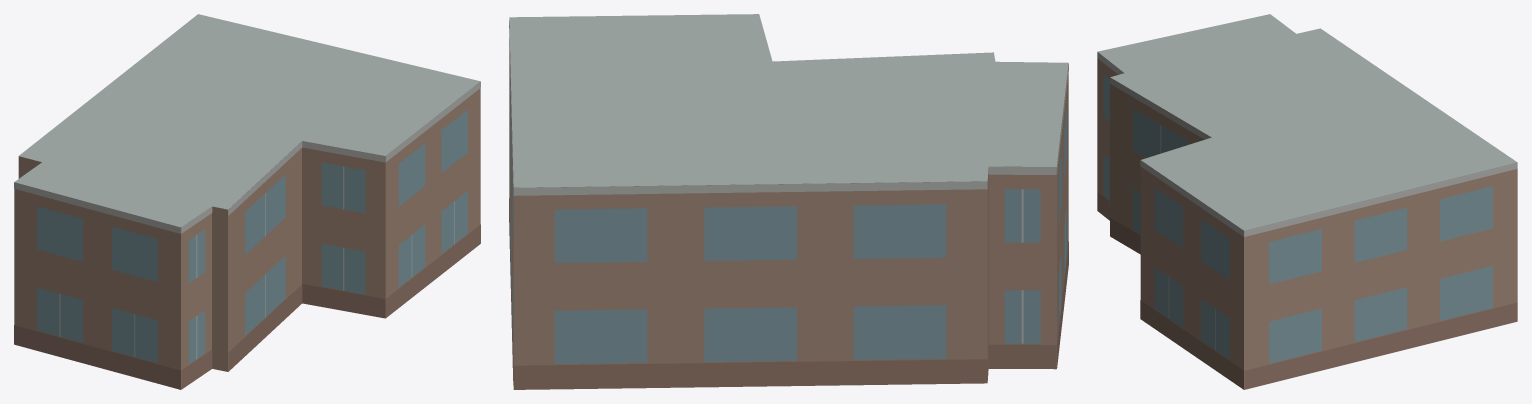
File: survey-upis-32796694.glb
The picture shows the model from 3 angles, left to right: view 1: azimuth 30°, elevation 25°; view 2: azimuth 150°, elevation 25°; view 3: azimuth 270°, elevation 25°; orthographic projection. The views are drawn at different scales.
Parts seen in each view (by area): view 1: survey-upis-32796694.tmp; view 2: survey-upis-32796694.tmp; view 3: survey-upis-32796694.tmp.
Boxes of the visible parts, <box> form: survey-upis-32796694.tmp: <box>14,14,480,389</box>; survey-upis-32796694.tmp: <box>509,14,1068,389</box>; survey-upis-32796694.tmp: <box>1097,14,1517,389</box>.
Size of the model in its own units: 17.83 by 6.1 by 14.61.
